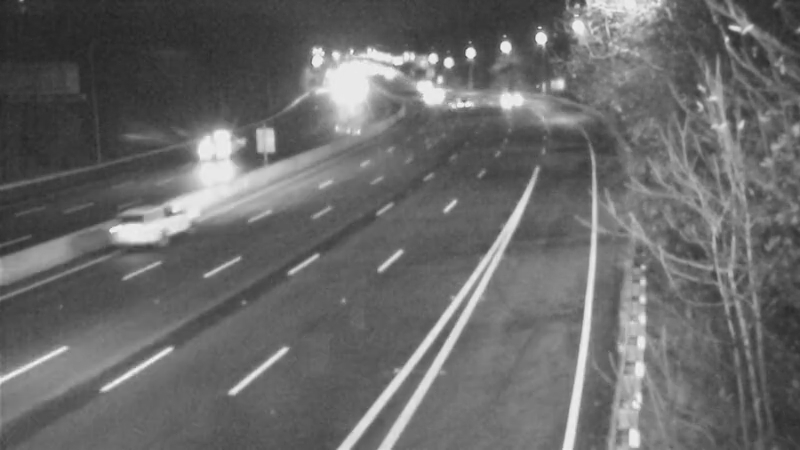vehicle: (96, 183, 176, 263), (395, 59, 445, 109), (478, 74, 528, 124), (407, 66, 457, 116), (432, 81, 482, 131), (185, 124, 235, 174)
